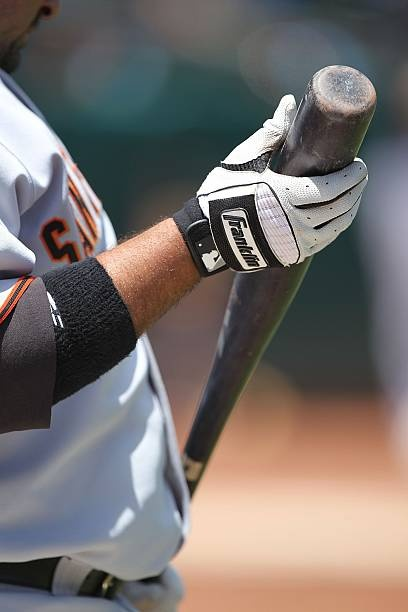bita: (177, 60, 386, 501)
